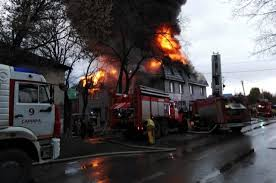fire: (82, 24, 195, 96)
